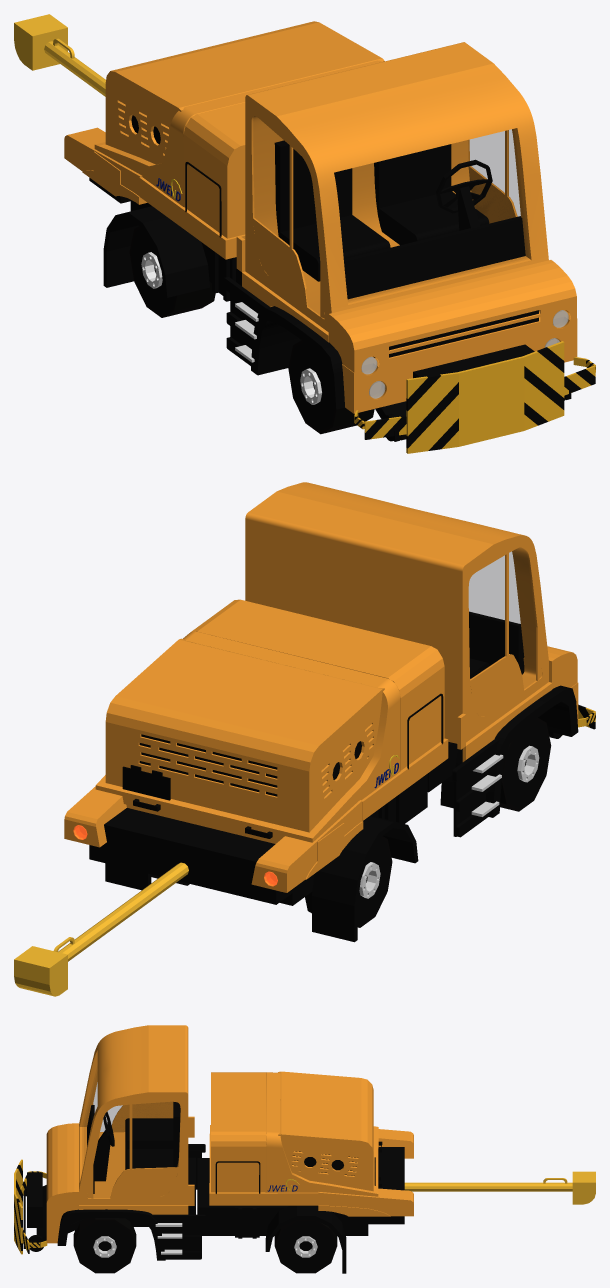
File: 公铁两用车3d新.FBX
3 views of the same model, one above another, from view 1: azimuth 30°, elevation 25°; view 2: azimuth 150°, elevation 25°; view 3: azimuth 270°, elevation 25° (orthographic). The views are drawn at different scales.
Parts seen in each view (by area): view 1: 物件_70, 物件_67, 物件_189, 物件_80, 物件_69, 物件_64, 物件_89, 物件_93, 物件_116, 物件_128; view 2: 物件_70, 物件_67, 物件_69, 物件_80, 物件_64, 物件_93, 物件_89, 物件_128; view 3: 物件_70, 物件_67, 物件_80, 物件_69, 物件_89, 物件_64, 物件_189, 物件_93, 物件_128.
Part boxes in pixels (box(x1,y1,x2,y2)): 物件_70: box(64, 21, 577, 413); 物件_67: box(89, 115, 595, 450); 物件_189: box(354, 341, 595, 453); 物件_80: box(131, 228, 334, 430); 物件_69: box(14, 14, 105, 96); 物件_64: box(468, 129, 520, 221); 物件_89: box(129, 226, 374, 434); 物件_93: box(141, 252, 321, 404); 物件_116: box(361, 310, 568, 398); 物件_128: box(235, 302, 258, 362); 物件_70: box(64, 482, 578, 892); 物件_67: box(89, 611, 595, 942); 物件_69: box(14, 862, 188, 996); 物件_80: box(357, 719, 549, 924); 物件_64: box(469, 552, 520, 623); 物件_93: box(359, 745, 539, 898); 物件_89: box(151, 718, 551, 927); 物件_128: box(471, 754, 503, 816); 物件_70: box(46, 1025, 413, 1243); 物件_67: box(14, 1102, 404, 1273); 物件_80: box(76, 1221, 334, 1271); 物件_69: box(404, 1171, 595, 1204); 物件_89: box(73, 1218, 337, 1273); 物件_64: box(93, 1083, 173, 1132); 物件_189: box(14, 1159, 47, 1254); 物件_93: box(93, 1236, 317, 1257); 物件_128: box(155, 1223, 182, 1254).
Bounding box in the file's own units: 110 × 122 × 352.
